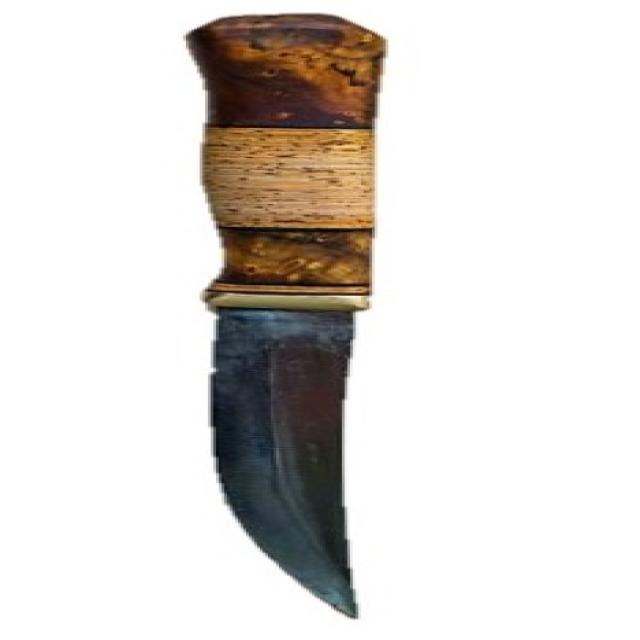knife: (173, 11, 368, 622)
